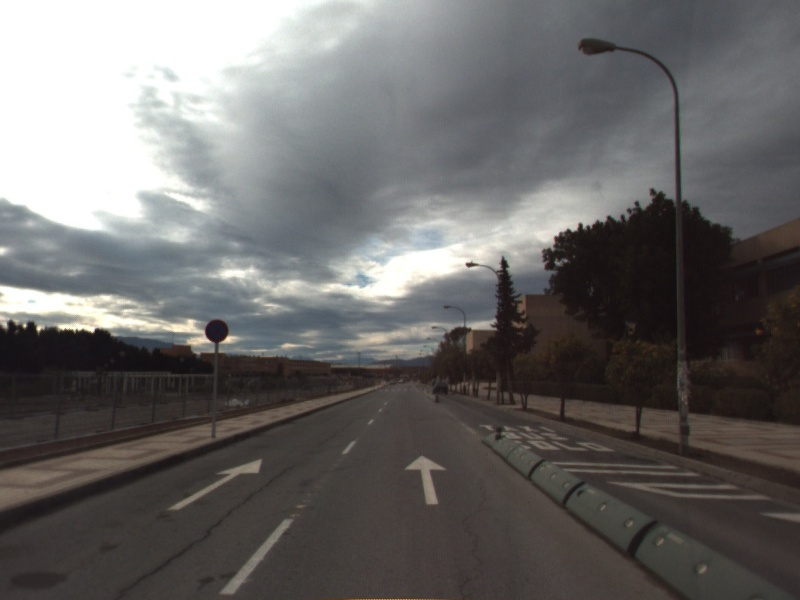STRAIGHT: (165, 456, 264, 512), (402, 453, 449, 506)
